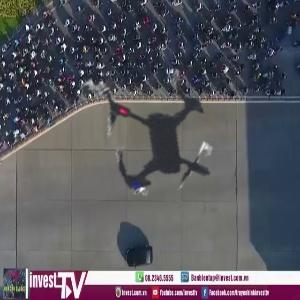drone: (34, 5, 300, 271)
